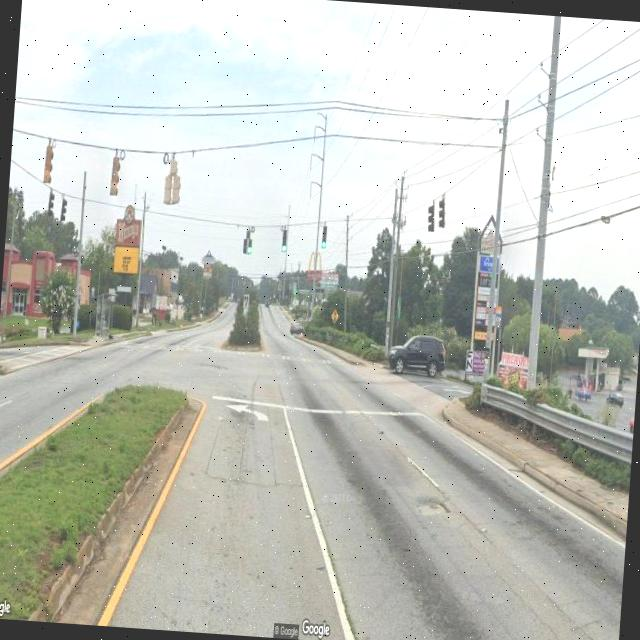seating: (100, 326, 110, 336)
shelter: (95, 292, 119, 341)
